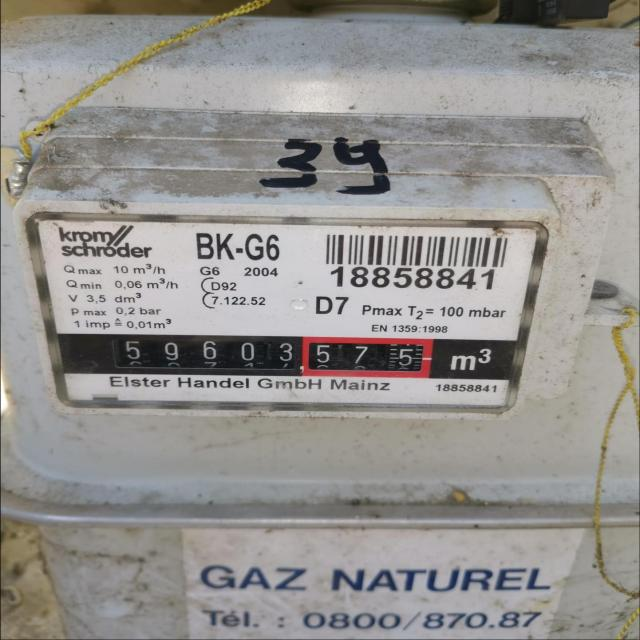gaz_meter: (31, 216, 544, 407)
indication: (110, 333, 439, 382)
